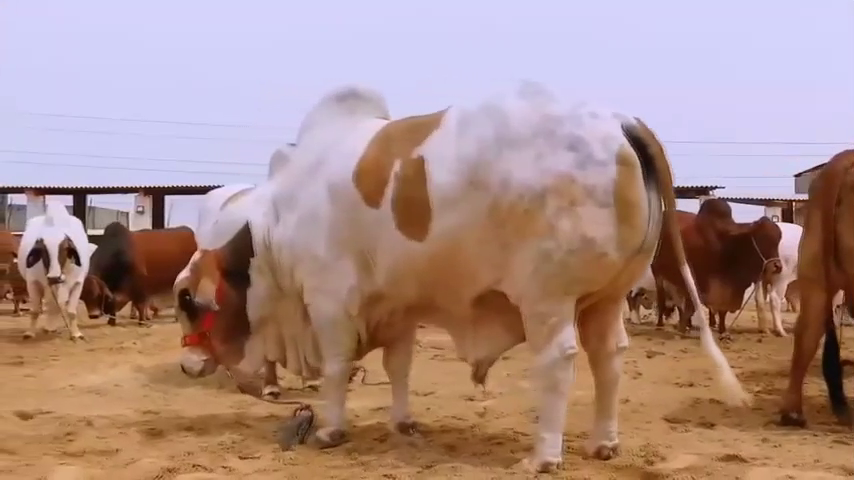bo: (170, 79, 764, 477), (760, 123, 854, 445), (636, 178, 788, 350), (72, 196, 209, 333), (752, 206, 850, 344), (18, 182, 91, 345)
